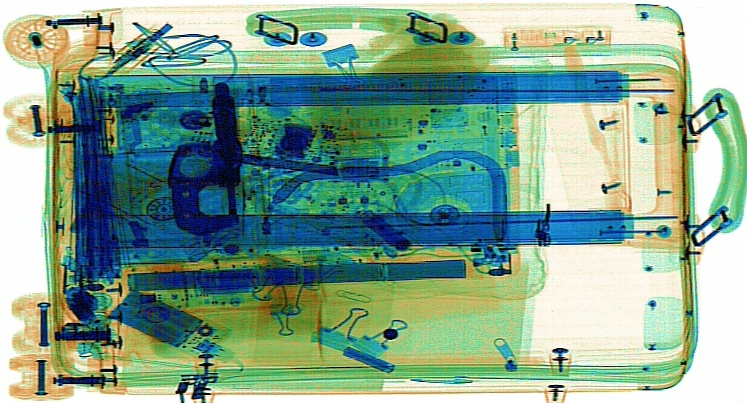powerbank: (107, 288, 230, 357)
